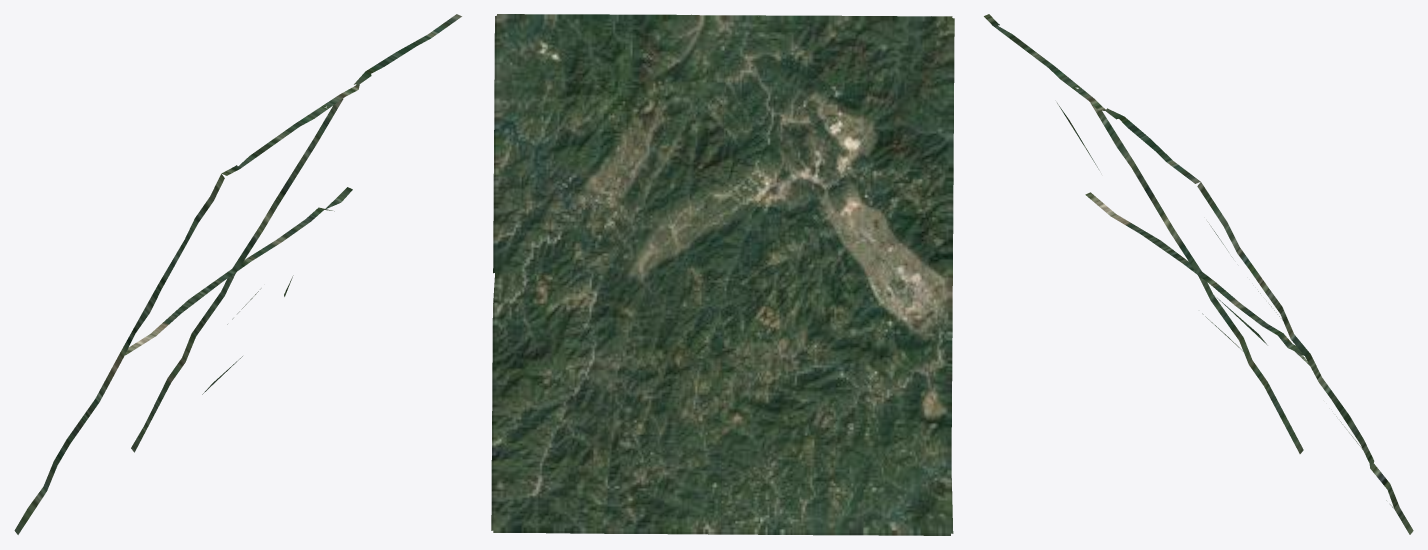
3 renders of one model, left to right at view 1: azimuth 30°, elevation 25°; view 2: azimuth 150°, elevation 25°; view 3: azimuth 270°, elevation 25°, orthographic. The views are drawn at different scales.
Bounding box in the file's own units: 79613 × 69836 × 66905.
Materials: 1 (1 with a texture image).
